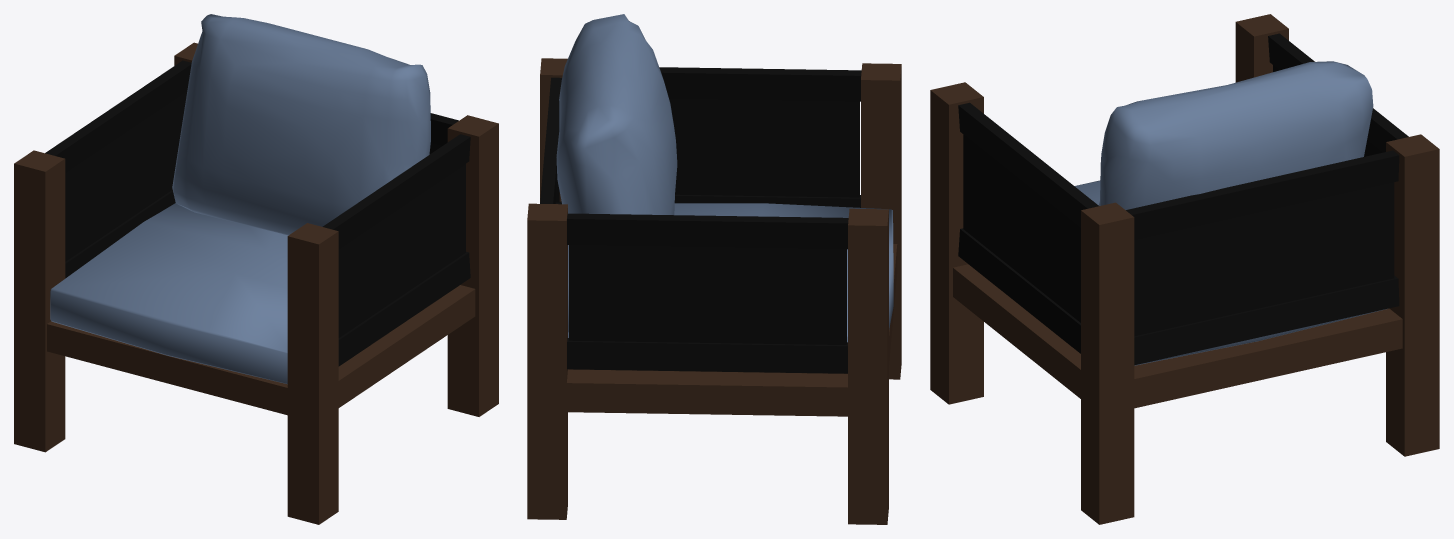
The model's file is bay-lounge-chair.lod0.glb.
3 views of the same model, side by side, from view 1: azimuth 30°, elevation 25°; view 2: azimuth 150°, elevation 25°; view 3: azimuth 270°, elevation 25° (orthographic). The views are drawn at different scales.
Visible parts, largest first — view 1: LoungeChair_LeatherWeave_0; view 2: LoungeChair_LeatherWeave_0; view 3: LoungeChair_LeatherWeave_0.
Part boxes in pixels (x1=…): LoungeChair_LeatherWeave_0: x1=14, y1=14, x2=498, y2=524; LoungeChair_LeatherWeave_0: x1=527, y1=14, x2=901, y2=524; LoungeChair_LeatherWeave_0: x1=930, y1=14, x2=1439, y2=524.
Size of the model in its own units: 1.03 by 0.8527 by 1.05.
